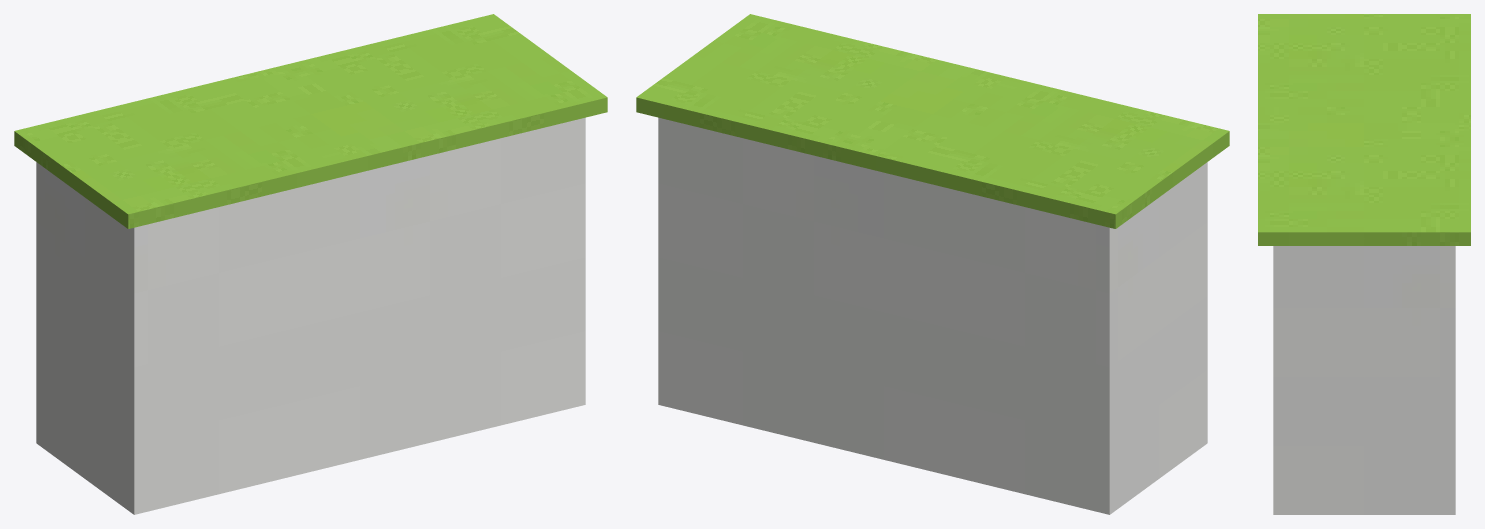
3 renders of one model, left to right at view 1: azimuth 30°, elevation 25°; view 2: azimuth 150°, elevation 25°; view 3: azimuth 270°, elevation 25°, orthographic. The views are drawn at different scales.
Parts seen in each view (by area): view 1: Decor_service_desk; view 2: Decor_service_desk; view 3: Decor_service_desk.
Boxes of the visible parts, x1,y1,x2,y2 form: Decor_service_desk: (14,14,607,514); Decor_service_desk: (636,14,1229,514); Decor_service_desk: (1258,14,1470,514).
Bounding box in the file's own units: 1.7 × 1.05 × 0.7.
Materials: 2 (2 with a texture image).
